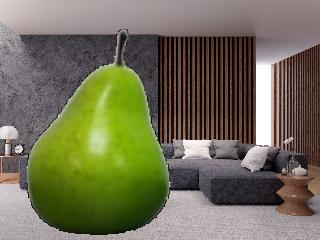pear: (24, 26, 172, 238)
